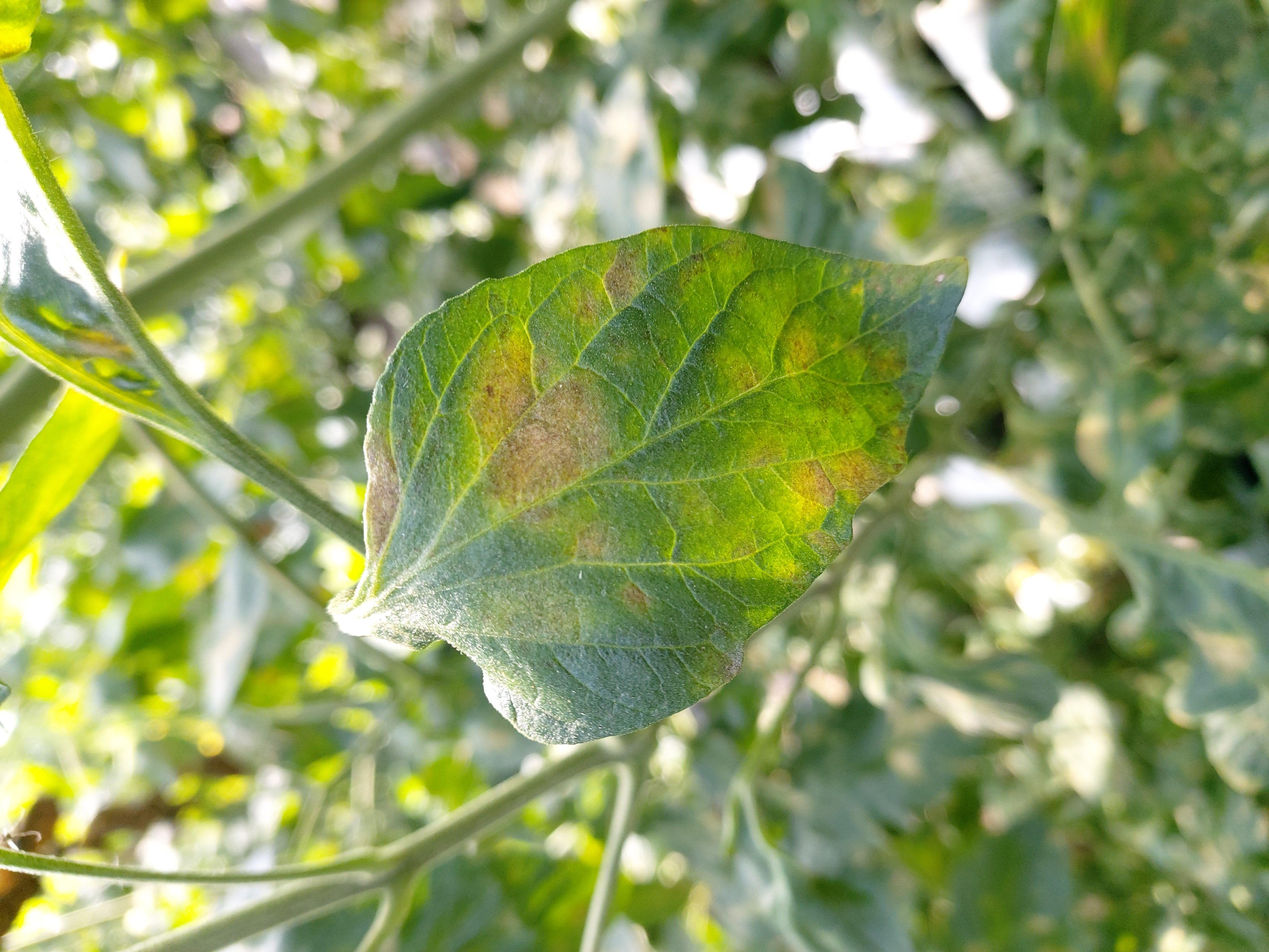Leaf Mold: (360, 220, 974, 740)
